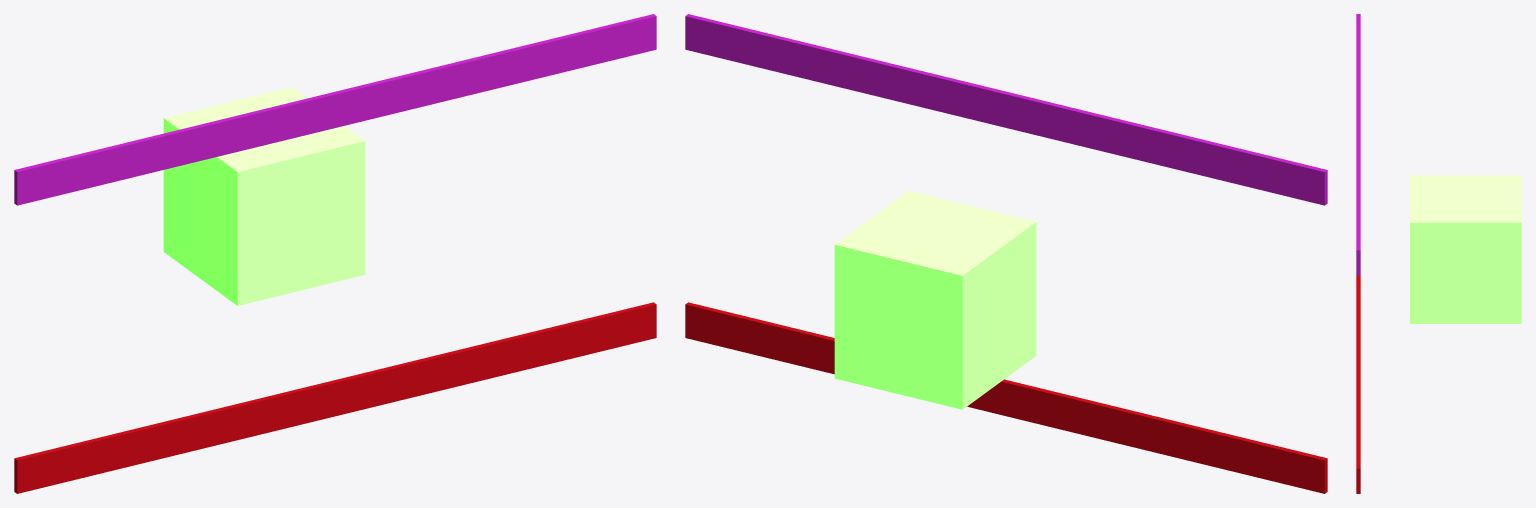
The picture shows the model from 3 angles, left to right: view 1: azimuth 30°, elevation 25°; view 2: azimuth 150°, elevation 25°; view 3: azimuth 270°, elevation 25°; orthographic projection. The views are drawn at different scales.
Parts seen in each view (by area): view 1: Cube.001, Cube, Cube.002; view 2: Cube.001, Cube, Cube.002; view 3: Cube.001, Cube, Cube.002.
Boxes of the visible parts, x1,y1,x2,y2 form: Cube.001: (163, 87, 365, 305); Cube: (14, 14, 656, 205); Cube.002: (14, 302, 656, 493); Cube.001: (834, 190, 1036, 409); Cube: (685, 14, 1327, 205); Cube.002: (685, 302, 1327, 493); Cube.001: (1410, 175, 1521, 323); Cube: (1356, 14, 1360, 275); Cube.002: (1356, 275, 1360, 493).
Size of the model in its own units: 10 by 4.81 by 2.96.
